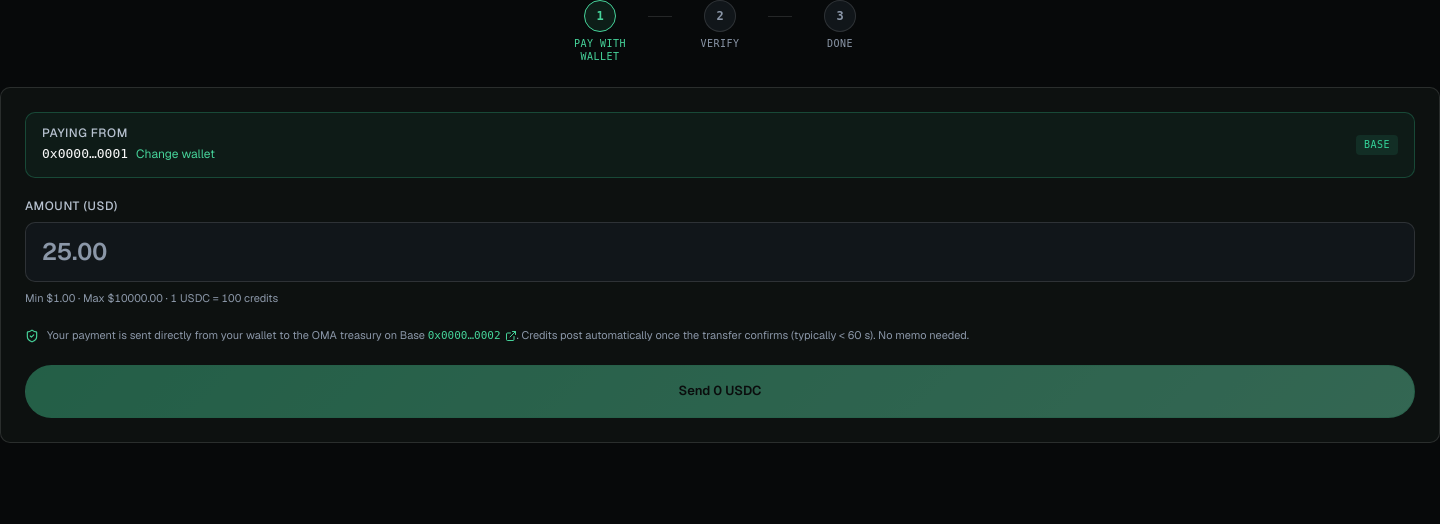
Test case: USDC broadcast recovery › rejects fractional cents before broadcasting a transfer
This screenshot has width=1440, height=524.
Type "1.005" into the field labelled "Amount (USD)".
click(720, 252); type("1.005")  # box top-left (25, 222), bottom-right (1415, 282)
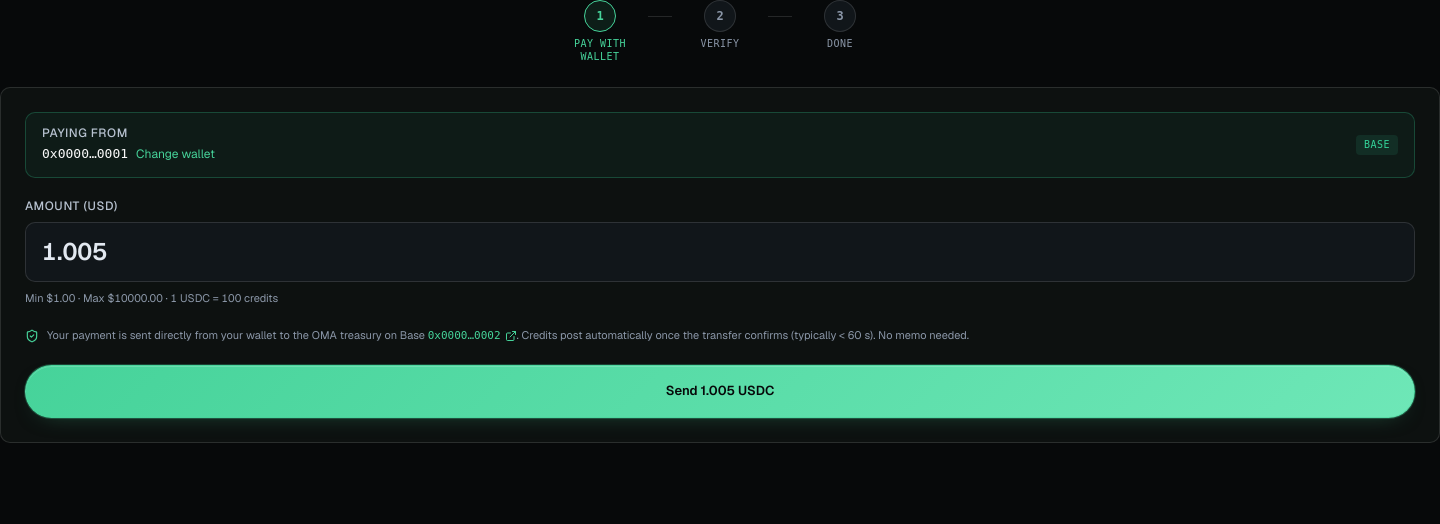
Click the button "Send 1.005 USDC".
click(720, 391)  # box top-left (25, 365), bottom-right (1415, 418)
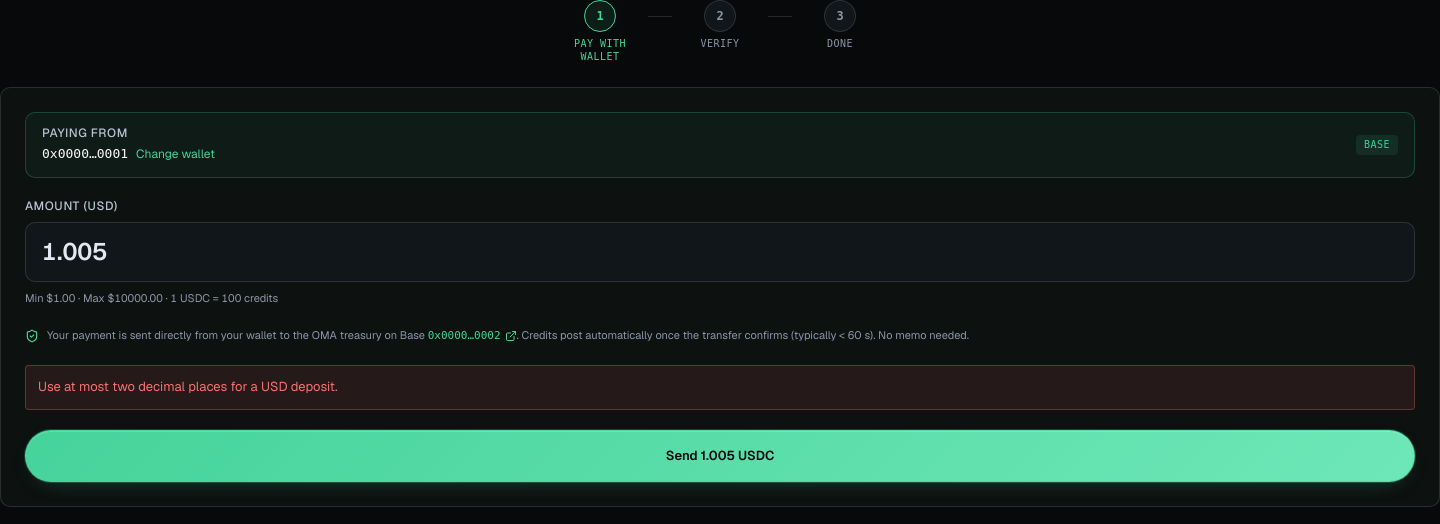
Now the text "Use at most two decimal places for a USD deposit." is shown, box top-left (25, 365), bottom-right (1415, 410)
